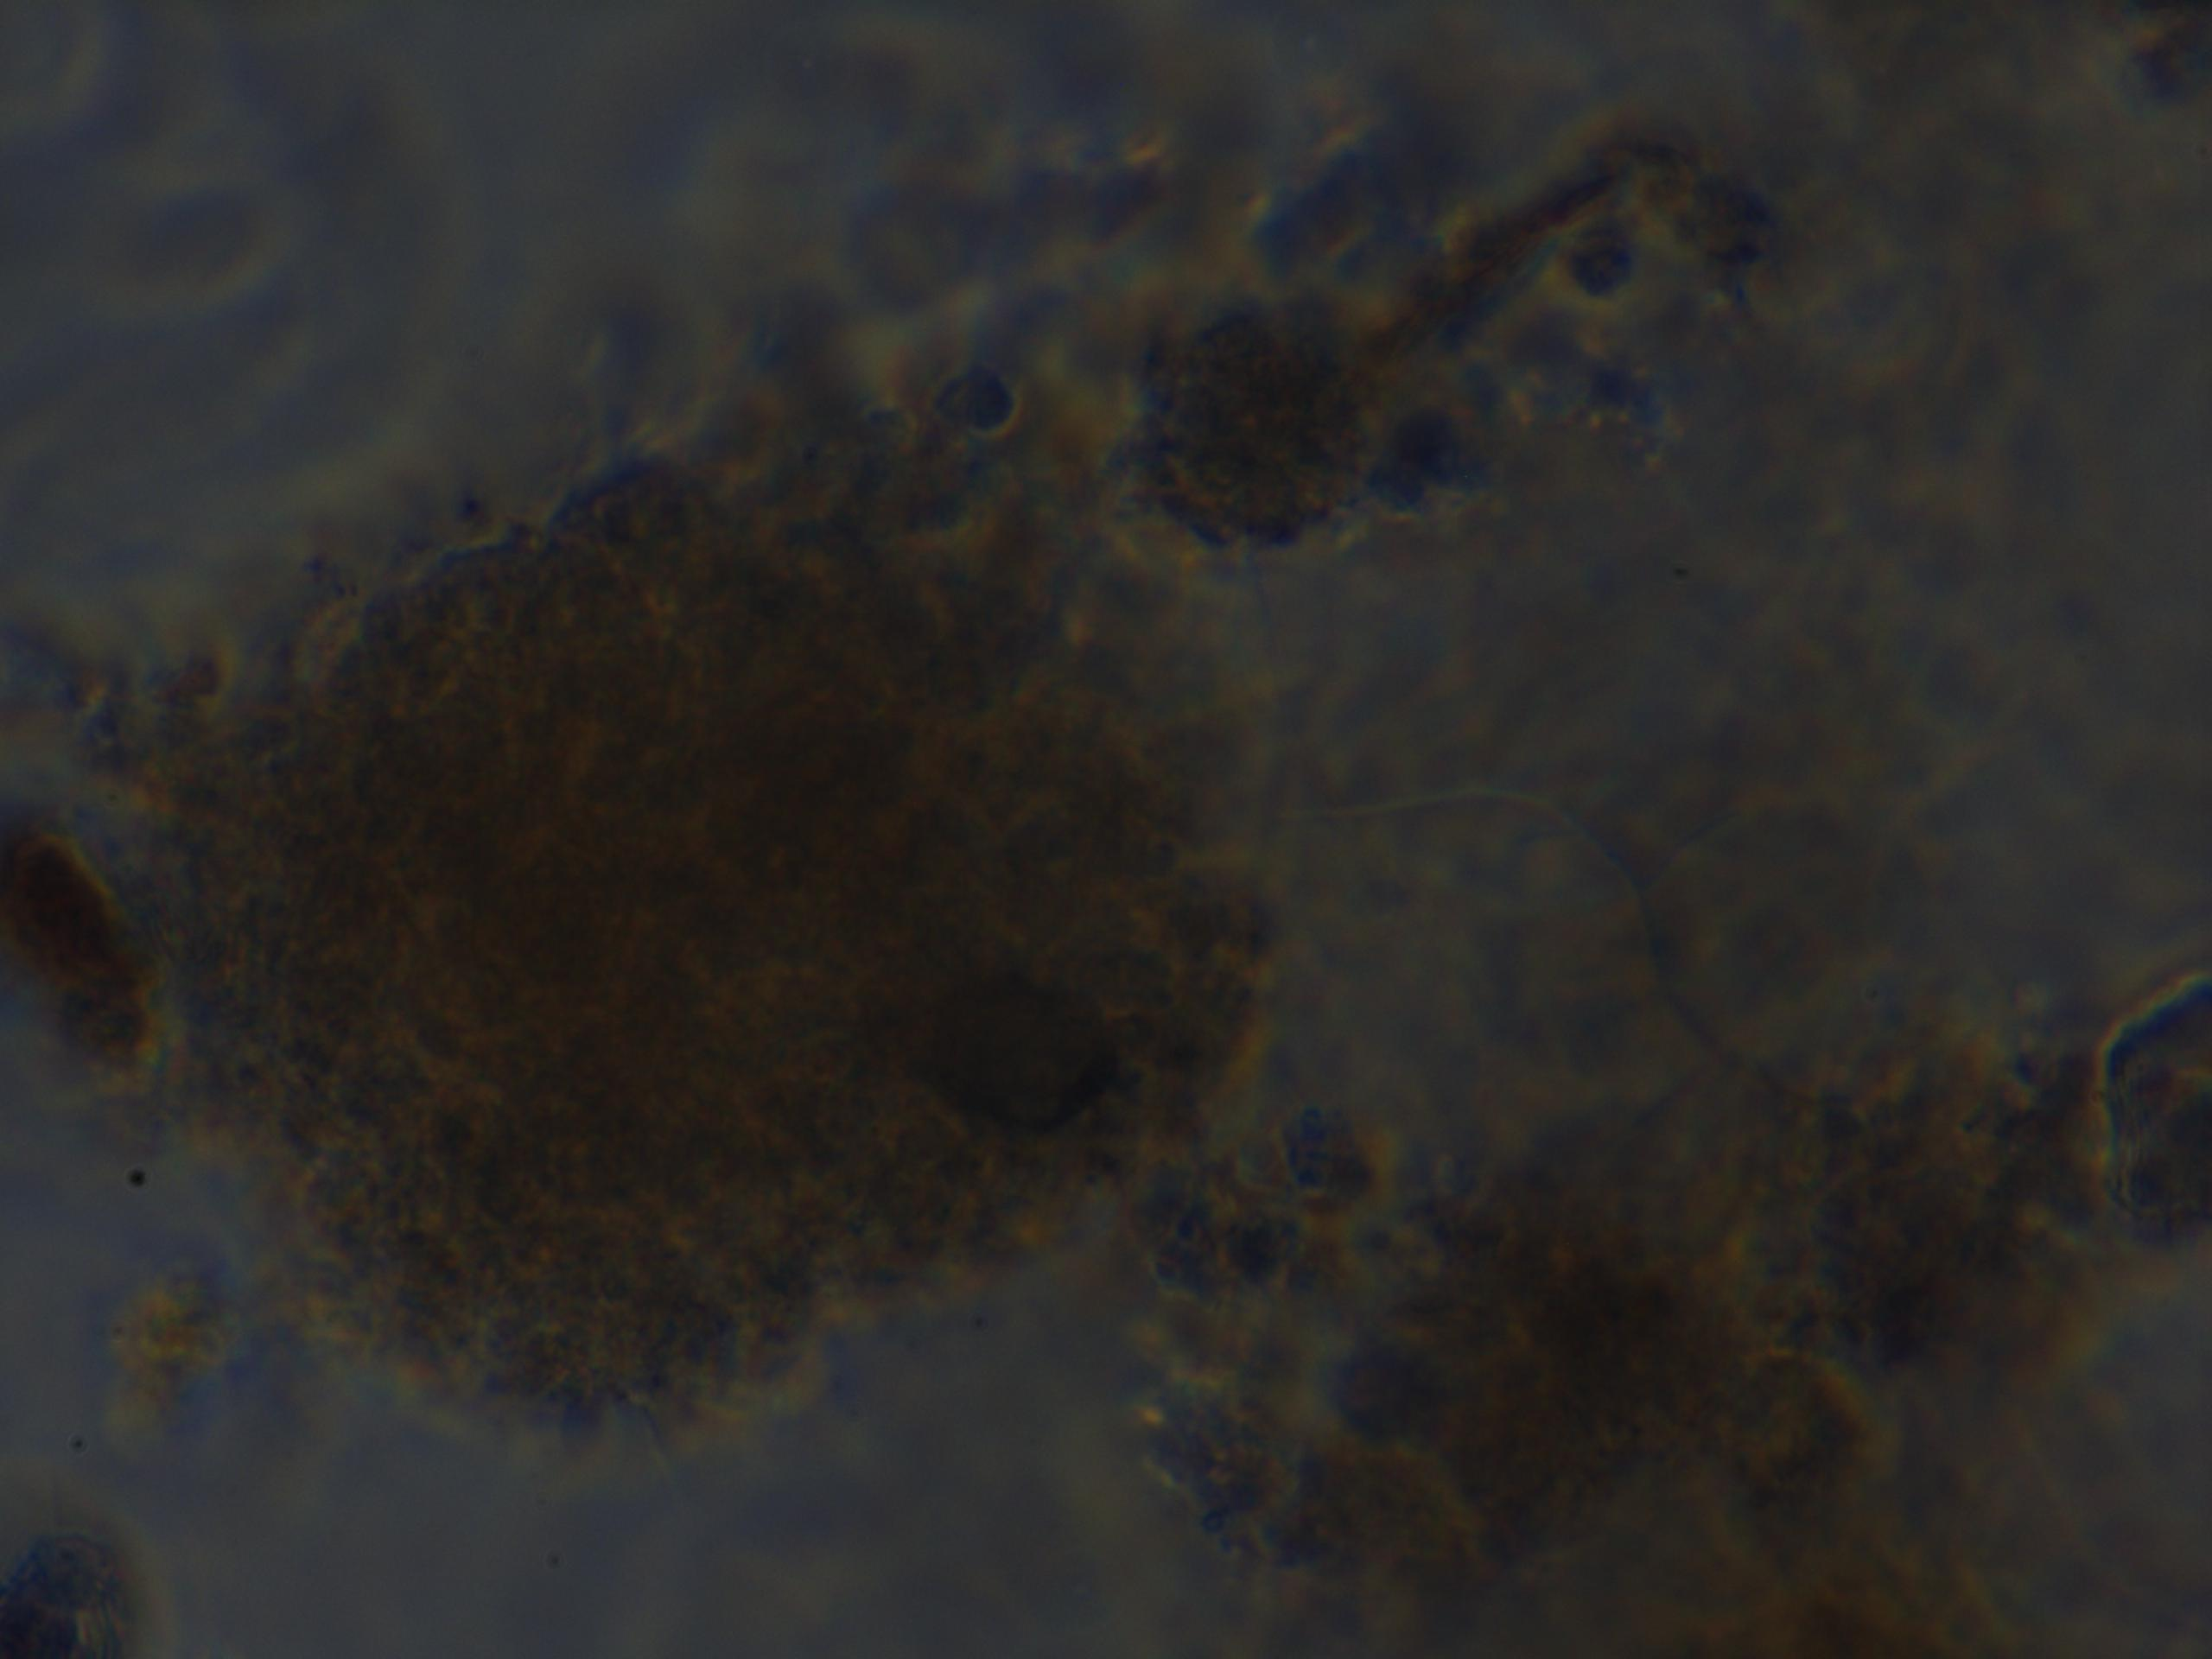spherical_floc: (77, 355, 1312, 1466)
